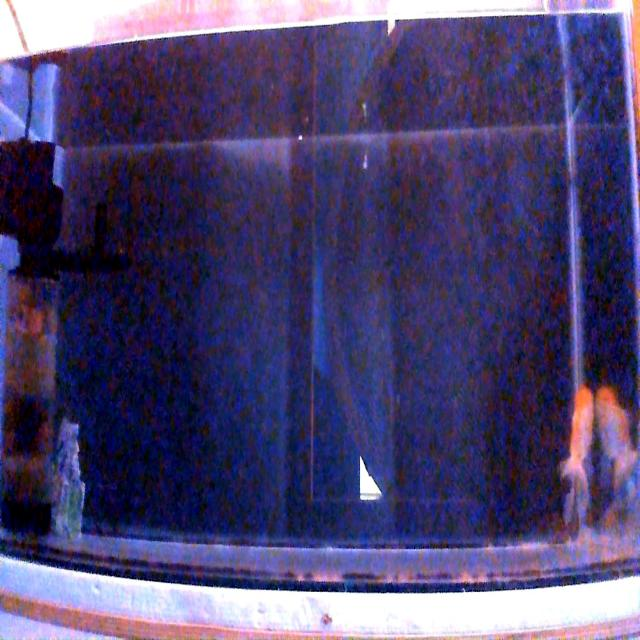fish: (593, 383, 638, 530), (559, 384, 595, 536)
